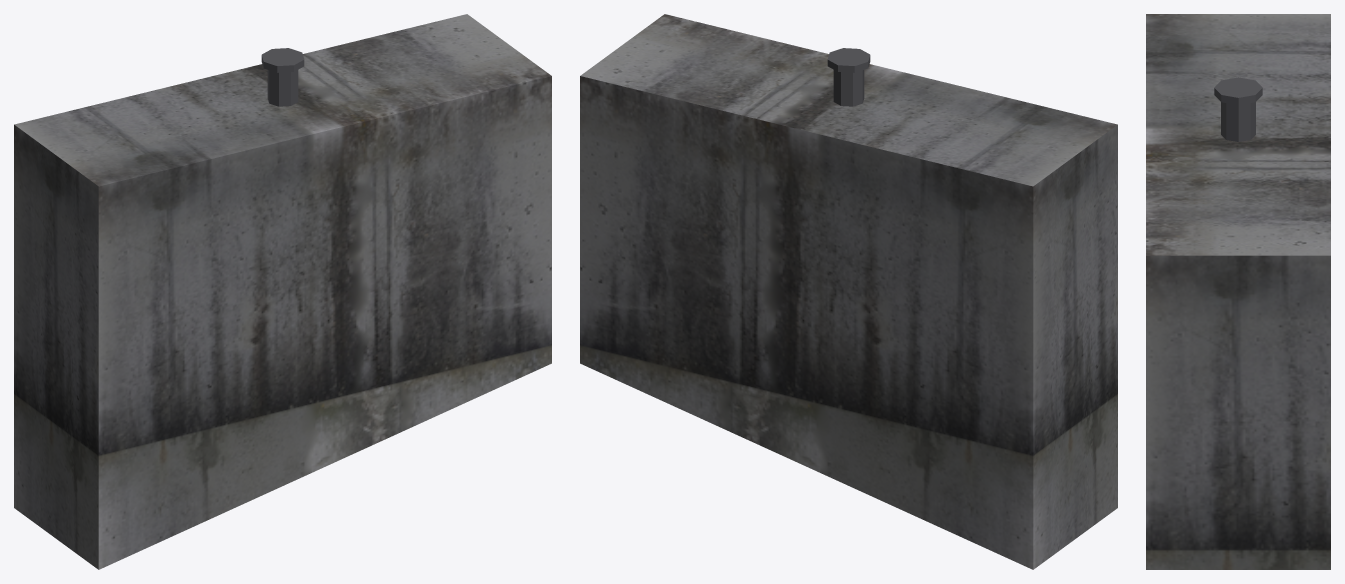
File: zdymadlo_zed_svah_0.glb
The picture shows the model from 3 angles, left to right: view 1: azimuth 30°, elevation 25°; view 2: azimuth 150°, elevation 25°; view 3: azimuth 270°, elevation 25°; orthographic projection. The views are drawn at different scales.
Visible parts, largest first — view 1: zdymadlo_zed_svah_0; view 2: zdymadlo_zed_svah_0; view 3: zdymadlo_zed_svah_0.
Part boxes in pixels (bbox=[...]): zdymadlo_zed_svah_0: bbox=[14, 14, 551, 569]; zdymadlo_zed_svah_0: bbox=[580, 14, 1117, 569]; zdymadlo_zed_svah_0: bbox=[1146, 14, 1330, 569].
Size of the model in its own units: 4.95 by 4.45 by 1.6.
Materials: 2 (1 with a texture image).
